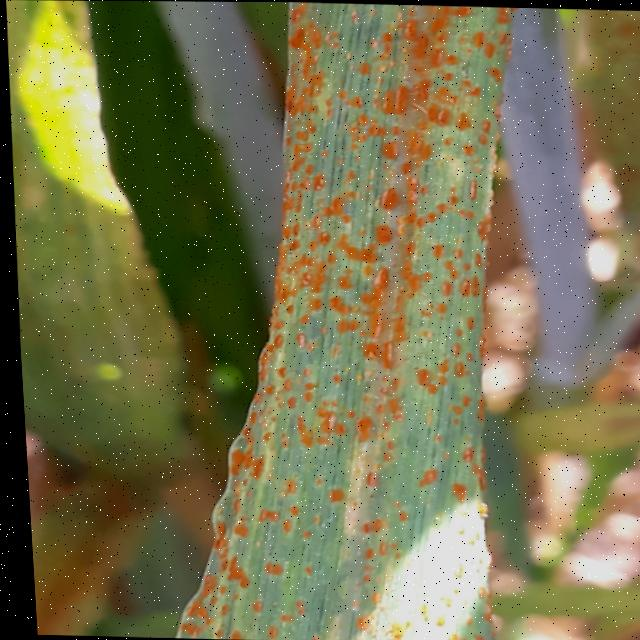orang_rust: (126, 1, 549, 640), (555, 11, 640, 266)
